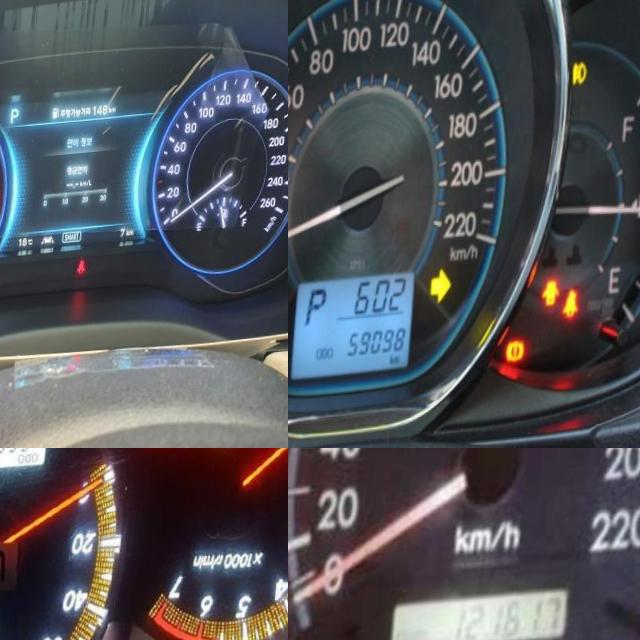LaneCenteringOff: (46, 240, 59, 251)
Seat Belt: (571, 298, 587, 327)
